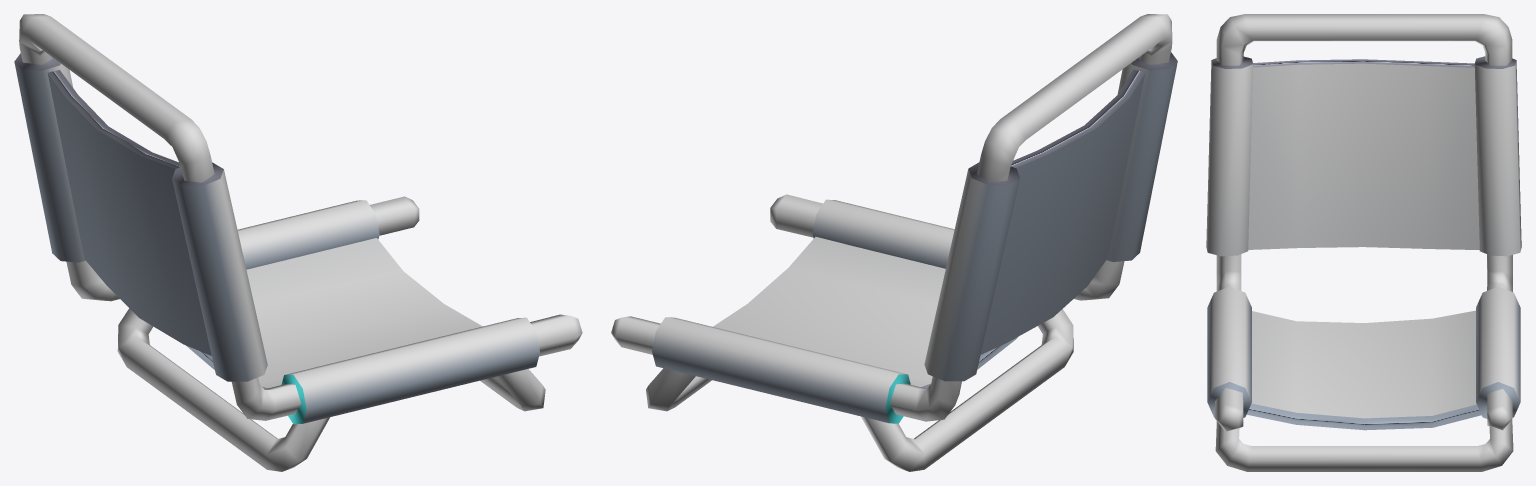
Rendered from CampingChairTeal.glb.
The picture shows the model from 3 angles, left to right: view 1: azimuth 30°, elevation 25°; view 2: azimuth 150°, elevation 25°; view 3: azimuth 270°, elevation 25°; orthographic projection. The views are drawn at different scales.
Visible parts, largest first — view 1: CampingChairTeal; view 2: CampingChairTeal; view 3: CampingChairTeal.
Boxes of the visible parts, bbox=[...] form: CampingChairTeal: bbox=[14, 14, 582, 471]; CampingChairTeal: bbox=[611, 14, 1177, 471]; CampingChairTeal: bbox=[1206, 14, 1521, 471].
Bounding box in the file's own units: 1.02 × 0.9043 × 0.832.
